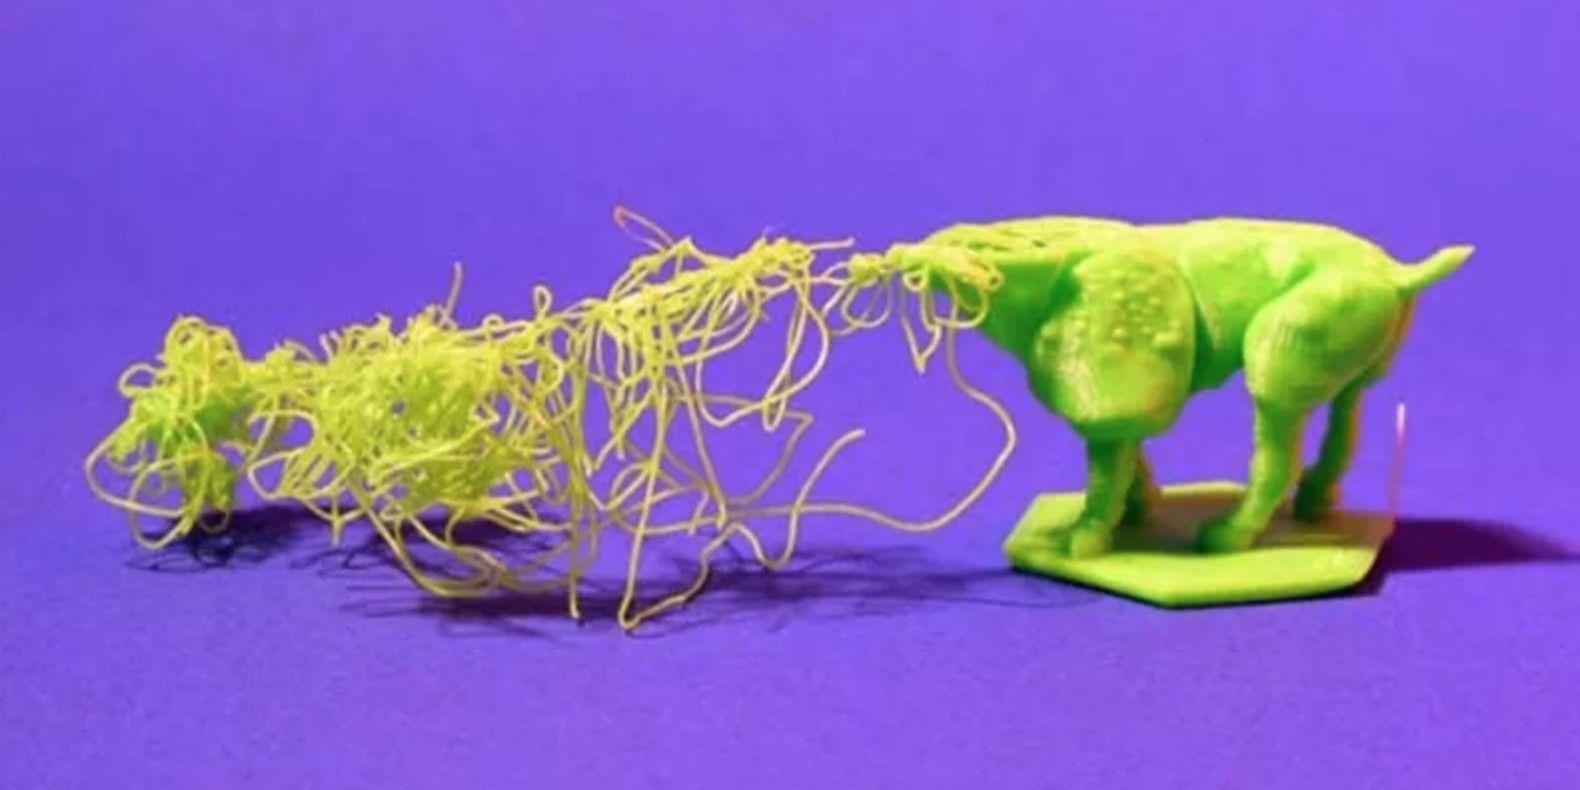Spaghetti: (83, 268, 992, 569)
Stringing or Oozing: (1040, 243, 1199, 366)
